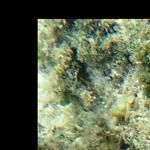dead: (38, 19, 149, 148)
